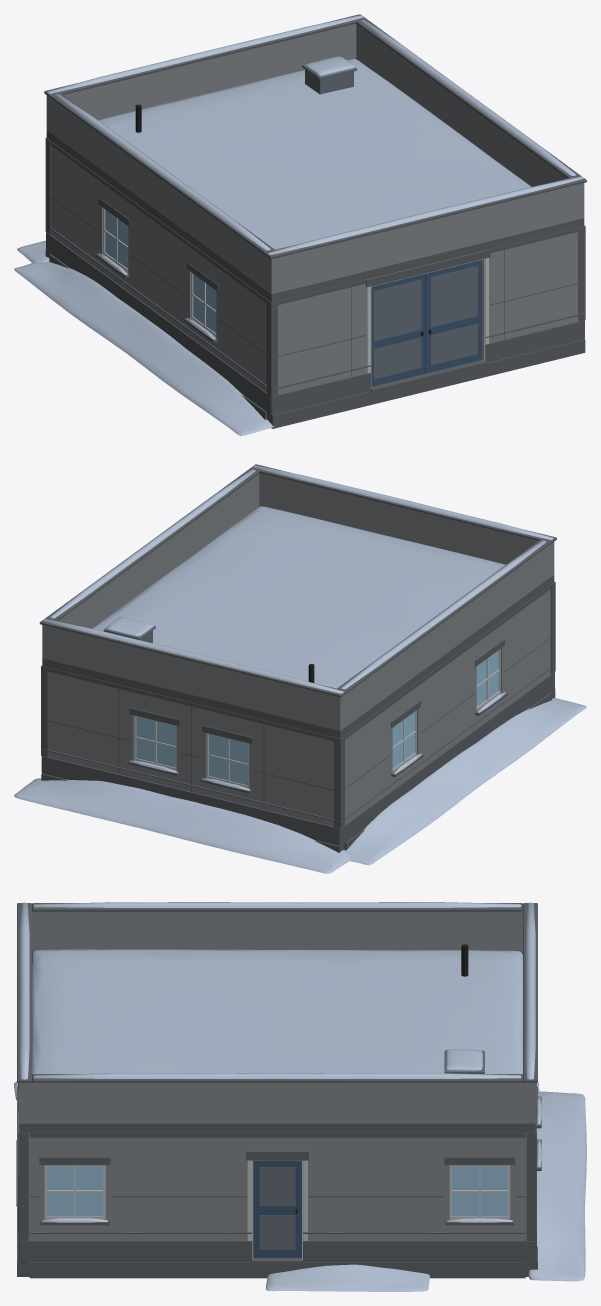
The model's file is garage.glb.
3 renders of one model, top to bottom at view 1: azimuth 30°, elevation 25°; view 2: azimuth 150°, elevation 25°; view 3: azimuth 270°, elevation 25°, orthographic. The views are drawn at different scales.
Visible parts, largest first — view 1: Roof, Walls0_S, Walls0_W, Floor0, Door_1, Door_0, Walls0_S_Stub, Walls0_W_Stub, Window_5, Window_4, Walls0_N; view 2: Roof, Walls0_N, Floor0, Walls0_W, Walls0_N_Stub, Window_0, Window_1, Walls0_W_Stub, Window_5, Window_4, Walls0_S; view 3: Roof, Walls0_E, Floor0, Walls0_E_Stub, Door_2, Window_2, Window_3, Walls0_N, Walls0_S.
Part boxes in pixels (bbox=[...]): Roof: bbox=[44, 14, 586, 302]; Walls0_S: bbox=[265, 225, 585, 414]; Walls0_W: bbox=[50, 141, 266, 410]; Floor0: bbox=[14, 240, 585, 435]; Door_1: bbox=[425, 260, 481, 373]; Door_0: bbox=[371, 273, 425, 386]; Walls0_S_Stub: bbox=[265, 313, 585, 414]; Walls0_W_Stub: bbox=[50, 227, 266, 391]; Window_5: bbox=[105, 210, 128, 268]; Window_4: bbox=[193, 274, 216, 333]; Walls0_N: bbox=[45, 137, 51, 253]; Roof: bbox=[39, 464, 556, 738]; Walls0_N: bbox=[41, 665, 345, 845]; Floor0: bbox=[14, 689, 586, 873]; Walls0_W: bbox=[345, 585, 550, 842]; Walls0_N_Stub: bbox=[41, 749, 344, 835]; Window_0: bbox=[209, 734, 248, 785]; Window_1: bbox=[136, 717, 175, 767]; Walls0_W_Stub: bbox=[345, 667, 550, 822]; Window_5: bbox=[392, 711, 414, 768]; Window_4: bbox=[476, 650, 498, 706]; Walls0_S: bbox=[550, 581, 555, 692]; Roof: bbox=[17, 902, 537, 1132]; Walls0_E: bbox=[29, 1132, 525, 1263]; Floor0: bbox=[14, 1081, 586, 1291]; Walls0_E_Stub: bbox=[29, 1231, 525, 1261]; Door_2: bbox=[253, 1161, 301, 1257]; Window_2: bbox=[47, 1166, 102, 1216]; Window_3: bbox=[452, 1166, 507, 1216]; Walls0_N: bbox=[524, 1083, 541, 1262]; Walls0_S: bbox=[16, 1083, 30, 1262].
Size of what is drawn, in the model's own units: 9.89 by 4.4 by 11.32.
